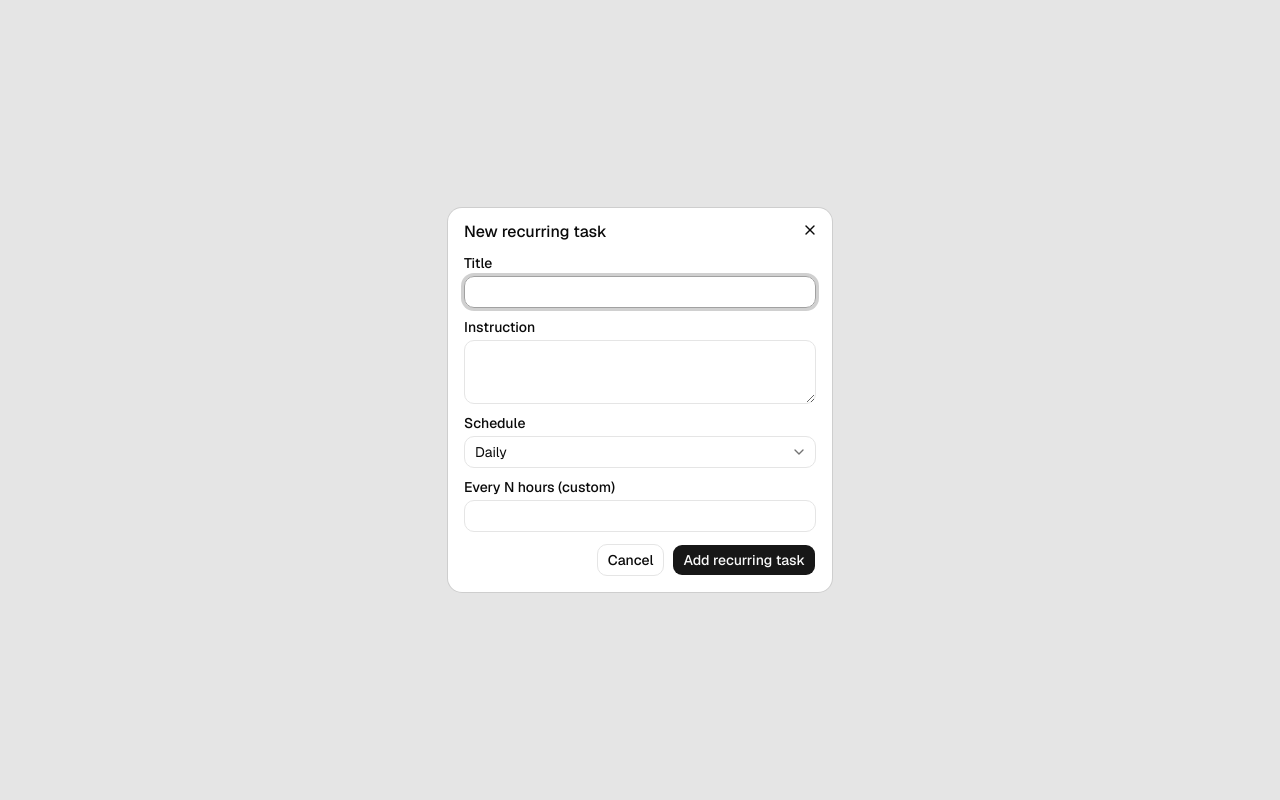
AddRecurringDialog › submits the form and shows the action's validation error
The width and height of the screenshot is (1280, 800).
Click the button "Add recurring task": (744, 560) [672,544,816,576]
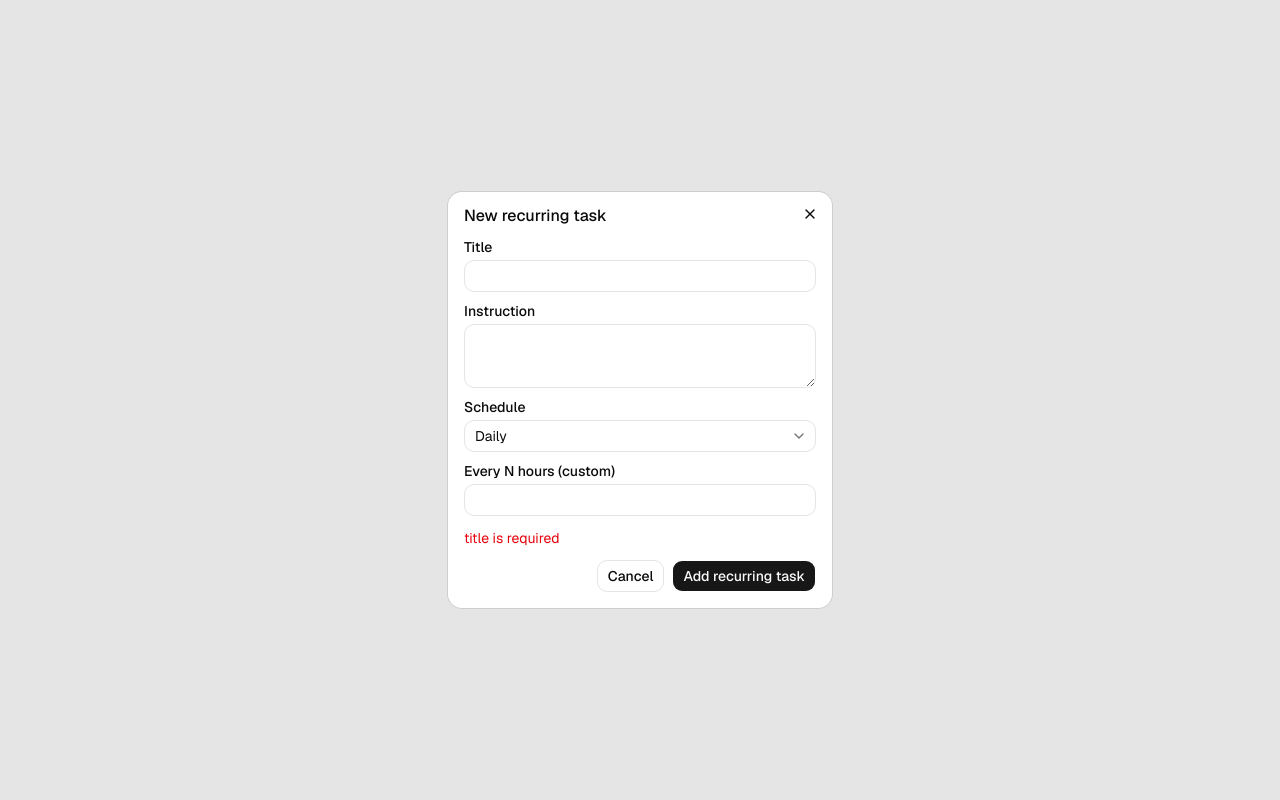
Now the message reads "title is required", box [464,529,560,547]
